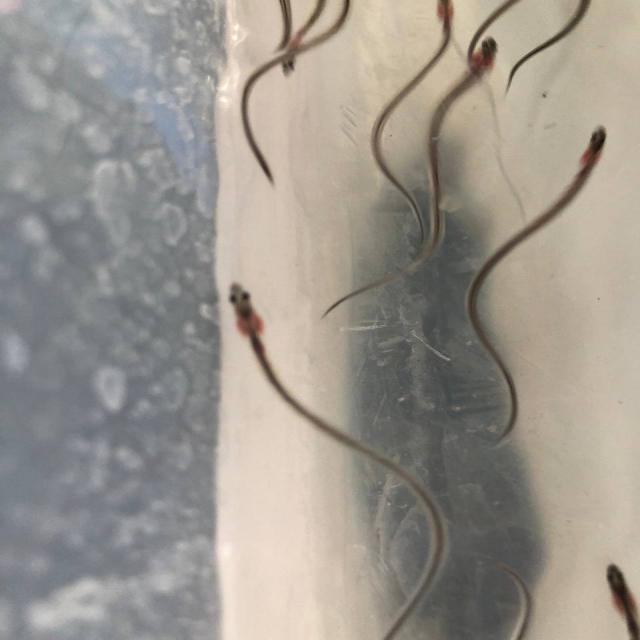glass_eel: (211, 271, 272, 348), (594, 558, 638, 640), (449, 35, 508, 86), (572, 118, 619, 169), (263, 36, 308, 86), (414, 0, 471, 28)
